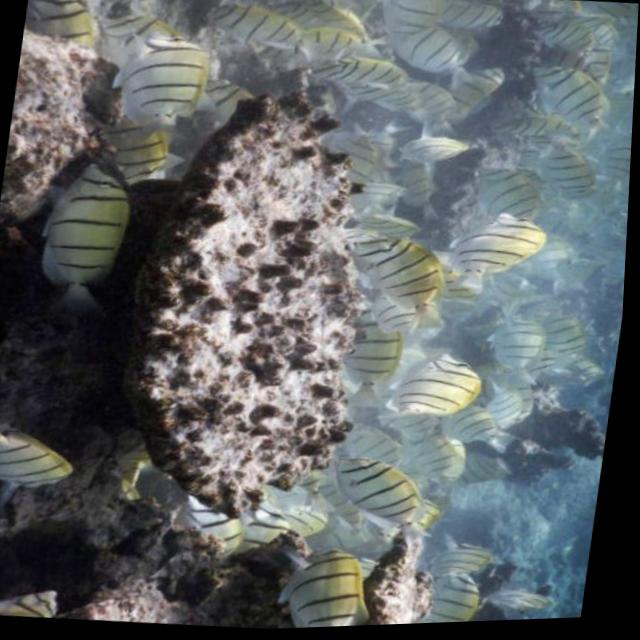Dead Coral: (55, 55, 441, 577)
